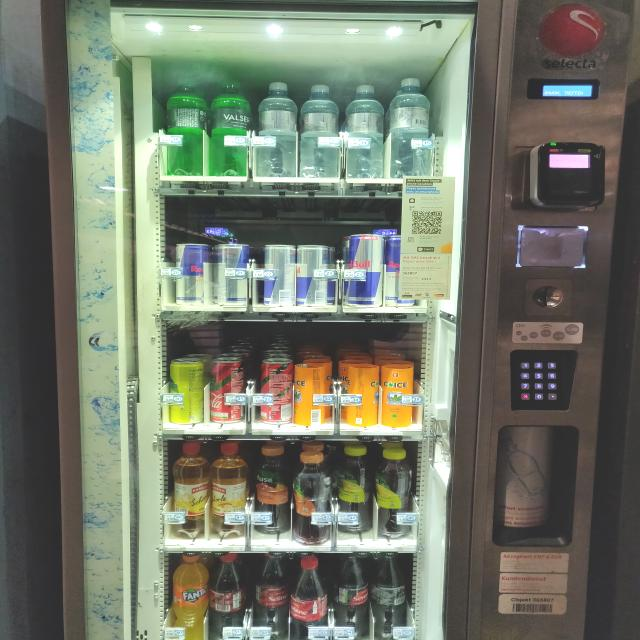c-swiss_dosenabisicetea__33__9120025930135: (380, 366, 418, 428), (294, 362, 329, 428), (344, 365, 378, 425)
coke__dose_33__54491472: (206, 357, 246, 424), (258, 359, 298, 425)
coke__flasche_50__54491472: (287, 558, 335, 640), (206, 553, 248, 640), (252, 556, 292, 636)
coke_zero_flasche_50__5449000131836: (371, 552, 410, 640), (330, 554, 370, 639)
fanta___50__40822938: (170, 554, 206, 640)
fuse_lemon__50__5449000235947: (375, 446, 418, 540), (336, 446, 378, 534)
fuse_lemon_dose_33__5449000235947: (167, 359, 209, 426)
fuse_peach__50__5449000236623: (291, 451, 337, 548), (254, 445, 292, 536)
ramseier_schorle__50__7610057012456: (206, 442, 251, 536), (172, 442, 208, 540)
redbull___33__90162909: (345, 232, 389, 308), (211, 244, 252, 306), (170, 241, 210, 304), (297, 244, 335, 307), (262, 244, 299, 307)
valser_still__50__7610335002575: (386, 77, 433, 177), (254, 81, 298, 179), (300, 84, 345, 177), (345, 83, 386, 180)
volvic_pinapple__50__305764335648: (208, 85, 251, 175), (166, 83, 208, 175)
